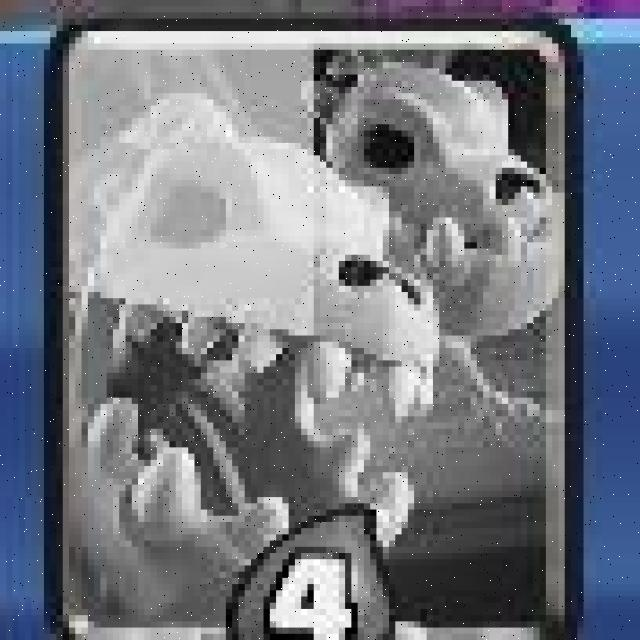Skeleton_Dragons: (43, 20, 576, 640)
